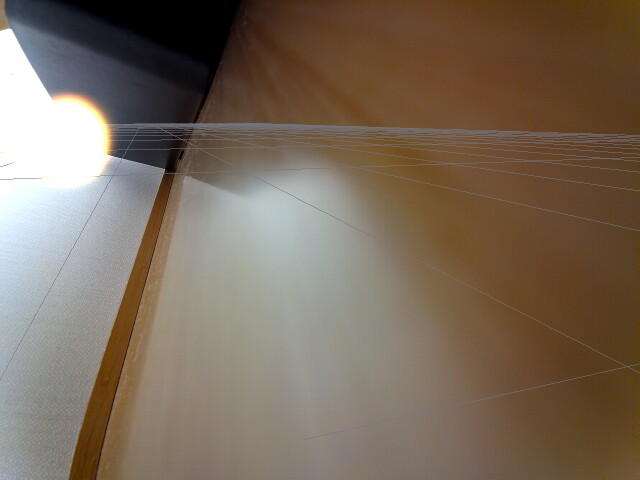firebig: (37, 84, 115, 195)
